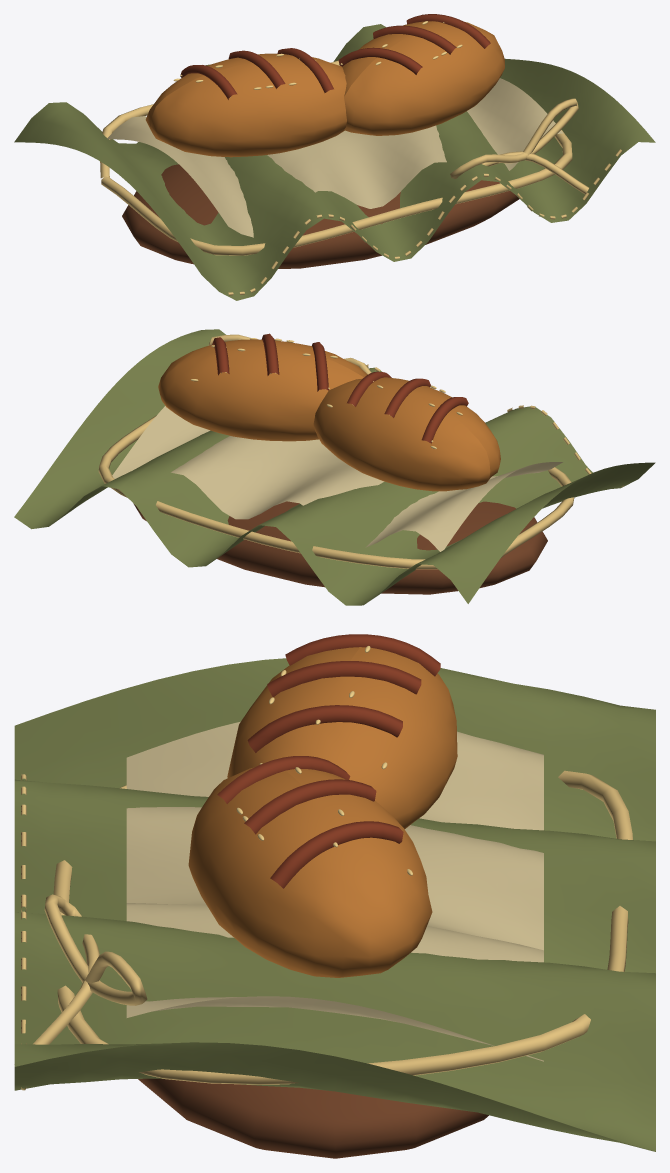
File: hearth_ration_kit.glb
3 renders of one model, top to bottom at view 1: azimuth 30°, elevation 25°; view 2: azimuth 150°, elevation 25°; view 3: azimuth 270°, elevation 25°, orthographic. The views are drawn at different scales.
Visible parts, largest first — view 1: kit-batch-dyed-linen, kit-batch-baked-crust, kit-batch-cream-lining, kit-batch-waxed-thread, kit-batch-saddle-leather, kit-batch-roasted-meal; view 2: kit-batch-dyed-linen, kit-batch-baked-crust, kit-batch-cream-lining, kit-batch-saddle-leather, kit-batch-waxed-thread, kit-batch-roasted-meal; view 3: kit-batch-dyed-linen, kit-batch-baked-crust, kit-batch-cream-lining, kit-batch-saddle-leather, kit-batch-waxed-thread, kit-batch-roasted-meal.
Part boxes in pixels (x1,y1,x2,y2): kit-batch-dyed-linen: [14, 24, 655, 300]; kit-batch-baked-crust: [145, 21, 504, 157]; kit-batch-cream-lining: [107, 78, 563, 237]; kit-batch-waxed-thread: [100, 60, 622, 295]; kit-batch-saddle-leather: [122, 164, 519, 268]; kit-batch-roasted-meal: [180, 14, 490, 99]; kit-batch-dyed-linen: [14, 329, 655, 605]; kit-batch-baked-crust: [158, 339, 500, 491]; kit-batch-cream-lining: [112, 406, 562, 551]; kit-batch-saddle-leather: [133, 501, 547, 594]; kit-batch-waxed-thread: [98, 334, 623, 569]; kit-batch-roasted-meal: [212, 333, 468, 443]; kit-batch-dyed-linen: [14, 658, 655, 1151]; kit-batch-baked-crust: [188, 647, 457, 977]; kit-batch-cream-lining: [126, 721, 543, 1061]; kit-batch-saddle-leather: [138, 1078, 488, 1158]; kit-batch-waxed-thread: [21, 770, 632, 1090]; kit-batch-roasted-meal: [217, 634, 440, 888].
Size of the model in its own units: 1.1 by 0.4404 by 0.7882.
